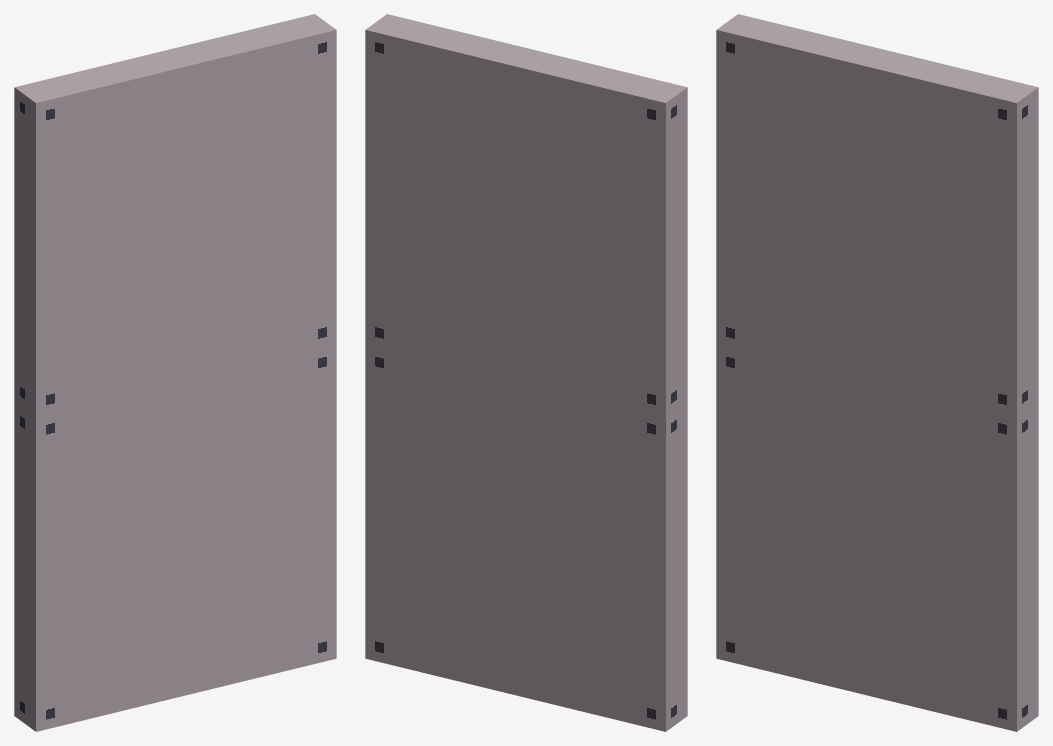
File: wall_textured_c_2_col.gltf
3 renders of one model, left to right at view 1: azimuth 30°, elevation 25°; view 2: azimuth 150°, elevation 25°; view 3: azimuth 330°, elevation 25°, orthographic.
Visible parts, largest first — view 1: wall_textured_c_2_col; view 2: wall_textured_c_2_col; view 3: wall_textured_c_2_col.
Boxes of the visible parts, x1=… form: wall_textured_c_2_col: x1=14, y1=14, x2=336, y2=731; wall_textured_c_2_col: x1=365, y1=14, x2=687, y2=731; wall_textured_c_2_col: x1=716, y1=14, x2=1038, y2=731.
Size of the model in its own units: 2 by 4 by 0.25.
1 material, 1 textured.
